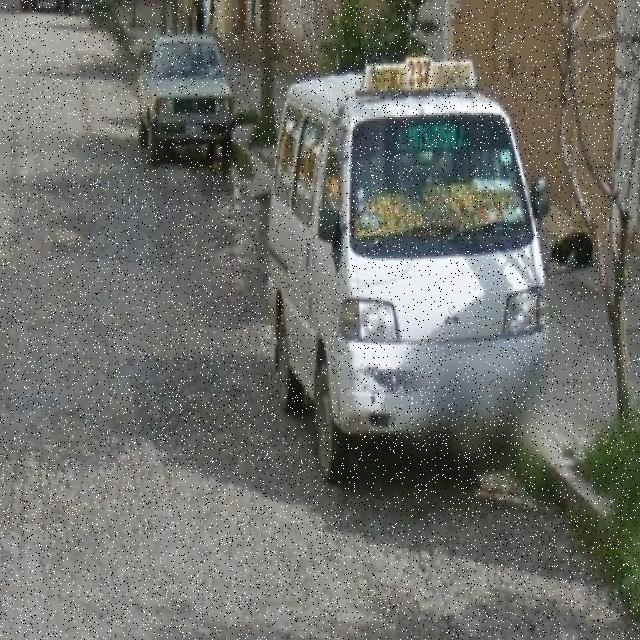cars: (267, 77, 561, 461), (136, 19, 237, 174)
